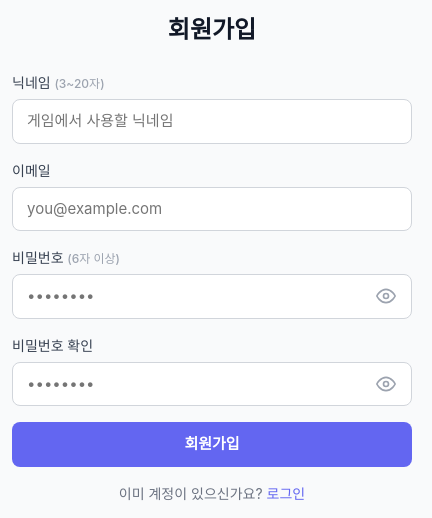
Test: SignupForm success › 가입 성공 시 완료 화면을 표시한다
Type "testuser" into the field labelled "닉네임 (3~20자)".
click(212, 121); type("testuser")  # box [12,99,412,144]
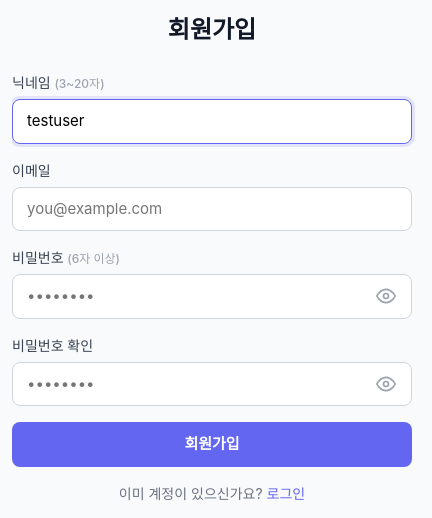
Type "test@example.com" into the field labelled "이메일".
click(212, 209); type("test@example.com")  # box [12,186,412,231]
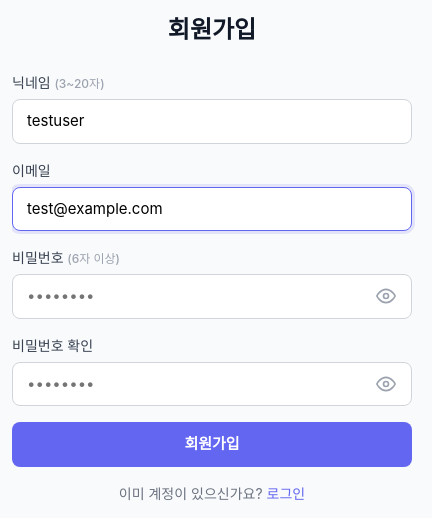
Type "pass123" into the password field labelled "비밀번호 (6자 이상)".
click(212, 296); type("pass123")  # box [12,274,412,318]
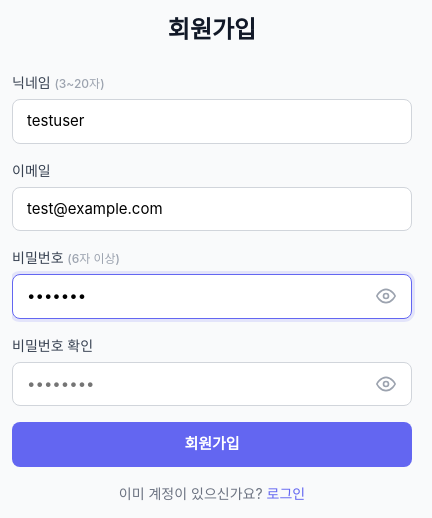
Type "pass123" into the password field labelled "비밀번호 확인".
click(212, 384); type("pass123")  # box [12,362,412,406]
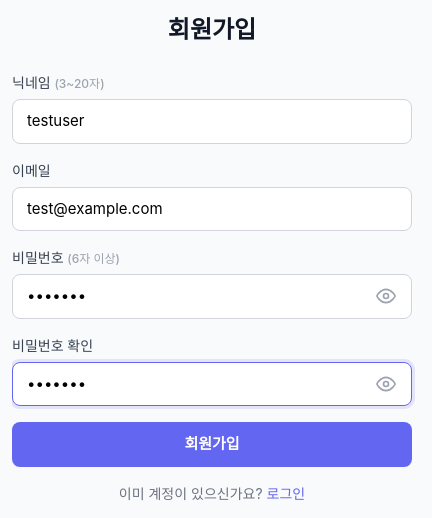
Click the button "회원가입".
click(212, 444)  # box [12,422,412,466]
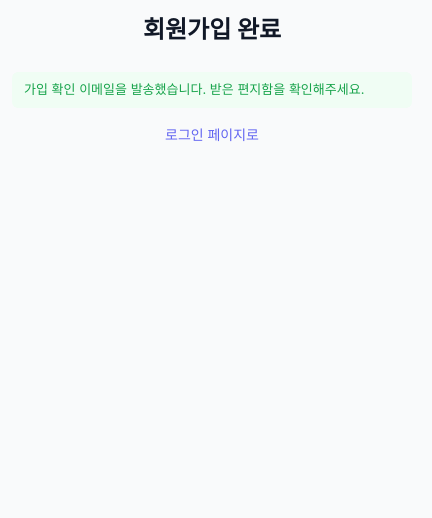
expect the heading "회원가입 완료" is shown: met, box [143,15,281,44]
expect the text "가입 확인 이메일을 발송했습니다. 받은 편지함을 확인해주세요." is shown: met, box [12,72,412,108]
expect the link "로그인 페이지로" is shown: met, box [165,126,259,142]
